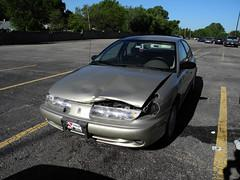bonnet-dent: (71, 77, 140, 111)
fender-dent: (148, 93, 171, 117)
